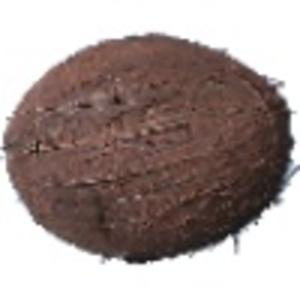coco: (4, 34, 300, 263)
